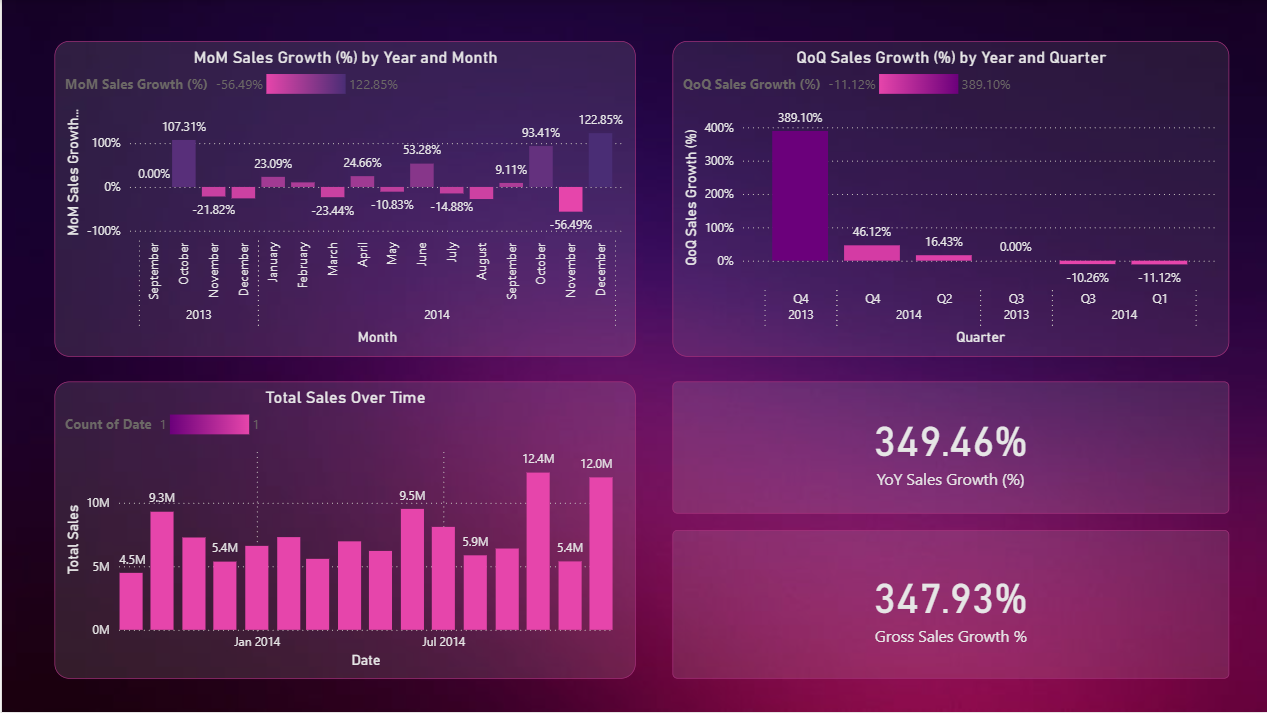

The dashboard page shown, as its layout file describes it:
{"tool":"powerbi","page":{"name":"Mom & QoQ Sales","canvas":[1280,720],"ordinal":0},"visuals":[{"type":"clusteredColumnChart","fields":{"Y":["Sheet1.MoM Sales Growth (%)"],"Category":["DateDimension.Date.Variation.Date Hierarchy.Year","DateDimension.Date.Variation.Date Hierarchy.Month"]},"box":[0,0,640,373.3],"z":0},{"type":"columnChart","fields":{"Y":["Sheet1.QoQ Sales Growth (%)"],"Category":["DateDimension.Date.Variation.Date Hierarchy.Year","DateDimension.Date.Variation.Date Hierarchy.Month"]},"box":[640,0,640,373.3],"z":1000},{"type":"columnChart","title":"Total Sales Over Time","fields":{"Category":["DateDimension.Date.Variation.Date Hierarchy.Year"],"Y":["Sheet1.Total Sales"]},"box":[0,373.3,640,346.7],"z":2000},{"type":"pageNavigator","box":[680,408.3,575,276.7],"z":3000}]}

Visuals, with their boxes in screenshot pixels (x1, y1, x2, y2), scaled from the page's 1280x720 canvas onto the 1267x713 screenshot:
clusteredColumnChart - Sheet1.MoM Sales Growth (%) x DateDimension.Date.Variation.Date Hierarchy.Year: locate(0, 0, 634, 370)
columnChart - Sheet1.QoQ Sales Growth (%) x DateDimension.Date.Variation.Date Hierarchy.Year: locate(634, 0, 1266, 370)
"Total Sales Over Time" columnChart: locate(0, 370, 634, 712)
pageNavigator: locate(673, 404, 1242, 678)
